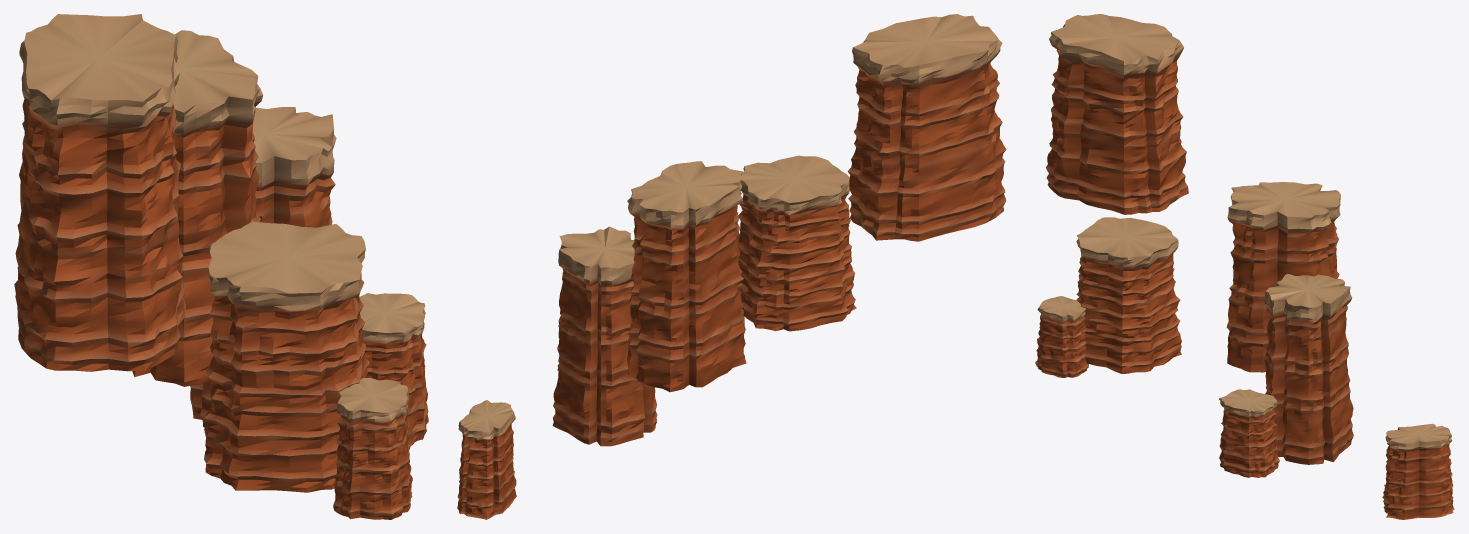
Rendered from terrain-089.glb.
3 renders of one model, left to right at view 1: azimuth 30°, elevation 25°; view 2: azimuth 150°, elevation 25°; view 3: azimuth 270°, elevation 25°, orthographic. The views are drawn at different scales.
Visible parts, largest first — view 1: terrain-089; view 2: terrain-089; view 3: terrain-089.
Boxes of the visible parts, x1,y1,x2,y2 form: terrain-089: (14, 14, 428, 519); terrain-089: (457, 14, 1006, 519); terrain-089: (1035, 14, 1454, 519).
Bounding box in the file's own units: 114 × 125 × 133.
